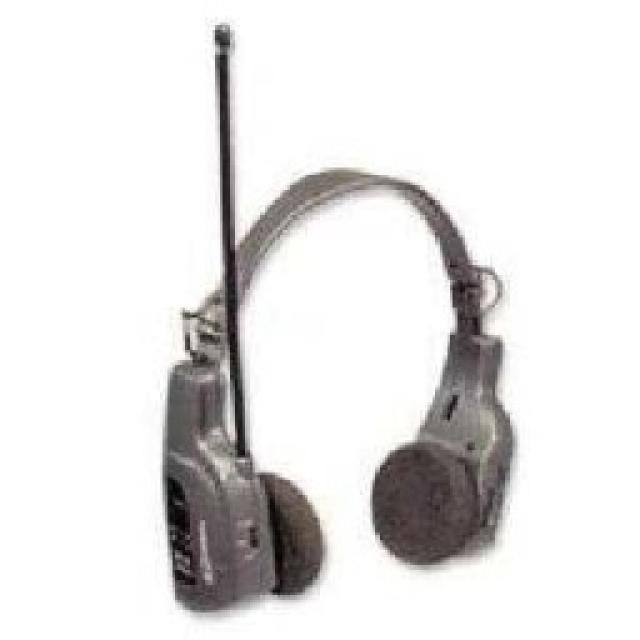kulaklik: (156, 16, 522, 629)
